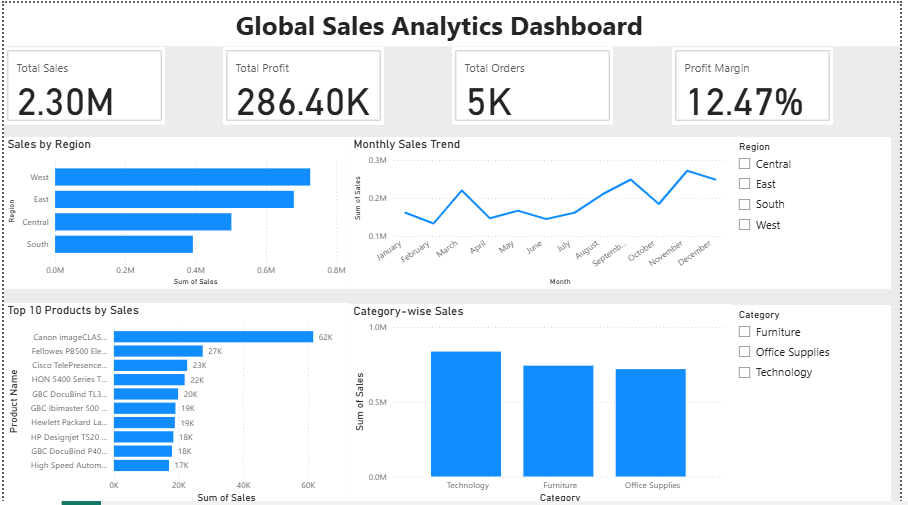

This screenshot's page, from the dashboard's own definition file:
{"tool":"powerbi","page":{"name":"Page 1","canvas":[1280,720],"ordinal":0},"visuals":[{"type":"shape","box":[0,61.5,1280,657.9],"z":500},{"type":"textbox","box":[312.4,0,618.2,62.2],"z":1000},{"type":"cardVisual","fields":{"Data":["Sample - Superstore.Total Sales"]},"box":[0,62.2,230.1,110.9],"z":2000},{"type":"cardVisual","fields":{"Data":["Sample - Superstore.Total Profit"]},"box":[319.2,62.2,230.1,110.9],"z":3000},{"type":"clusteredBarChart","title":"Sales by Region","fields":{"Y":["Sum(Sample - Superstore.Sales)"],"Category":["Sample - Superstore.Region"]},"box":[0,191.5,493.9,198.7],"z":4000},{"type":"lineChart","title":"Monthly Sales Trend","fields":{"Y":["Sum(Sample - Superstore.Sales)"],"Category":["Sample - Superstore.Order Date.Variation.Date Hierarchy.Month"]},"box":[493.9,191.5,542.9,198.7],"z":5000},{"type":"columnChart","title":"Category-wise Sales","fields":{"Category":["Sample - Superstore.Category"],"Y":["Sum(Sample - Superstore.Sales)"]},"box":[493.9,409,542.9,311],"z":6000},{"type":"clusteredBarChart","title":"Top 10 Products by Sales","fields":{"Y":["Sum(Sample - Superstore.Sales)"],"Category":["Sample - Superstore.Product Name"]},"box":[0,409,493.9,311],"z":7000},{"type":"cardVisual","fields":{"Data":["Sample - Superstore.Total Orders"]},"box":[638.3,62.2,230.1,110.9],"z":8000},{"type":"cardVisual","fields":{"Data":["Sample - Superstore.Profit Margin"]},"box":[957.5,62.2,230.1,110.9],"z":9000},{"type":"slicer","fields":{"Values":["Sample - Superstore.Region"]},"box":[1036.8,191.5,230.4,198.7],"z":10000},{"type":"slicer","fields":{"Values":["Sample - Superstore.Category"]},"box":[1036.8,409,230.4,311],"z":11000}]}

Visuals, with their boxes in screenshot pixels (x1, y1, x2, y2), scaled from the page's 1280x720 canvas onto the 908x505 screenshot:
shape: select_region(0, 43, 907, 504)
textbox: select_region(222, 0, 660, 44)
cardVisual - Sample - Superstore.Total Sales: select_region(0, 44, 163, 121)
cardVisual - Sample - Superstore.Total Profit: select_region(226, 44, 390, 121)
"Sales by Region" clusteredBarChart: select_region(0, 134, 350, 274)
"Monthly Sales Trend" lineChart: select_region(350, 134, 735, 274)
"Category-wise Sales" columnChart: select_region(350, 287, 735, 504)
"Top 10 Products by Sales" clusteredBarChart: select_region(0, 287, 350, 504)
cardVisual - Sample - Superstore.Total Orders: select_region(453, 44, 616, 121)
cardVisual - Sample - Superstore.Profit Margin: select_region(679, 44, 842, 121)
slicer - Sample - Superstore.Region: select_region(735, 134, 899, 274)
slicer - Sample - Superstore.Category: select_region(735, 287, 899, 504)
